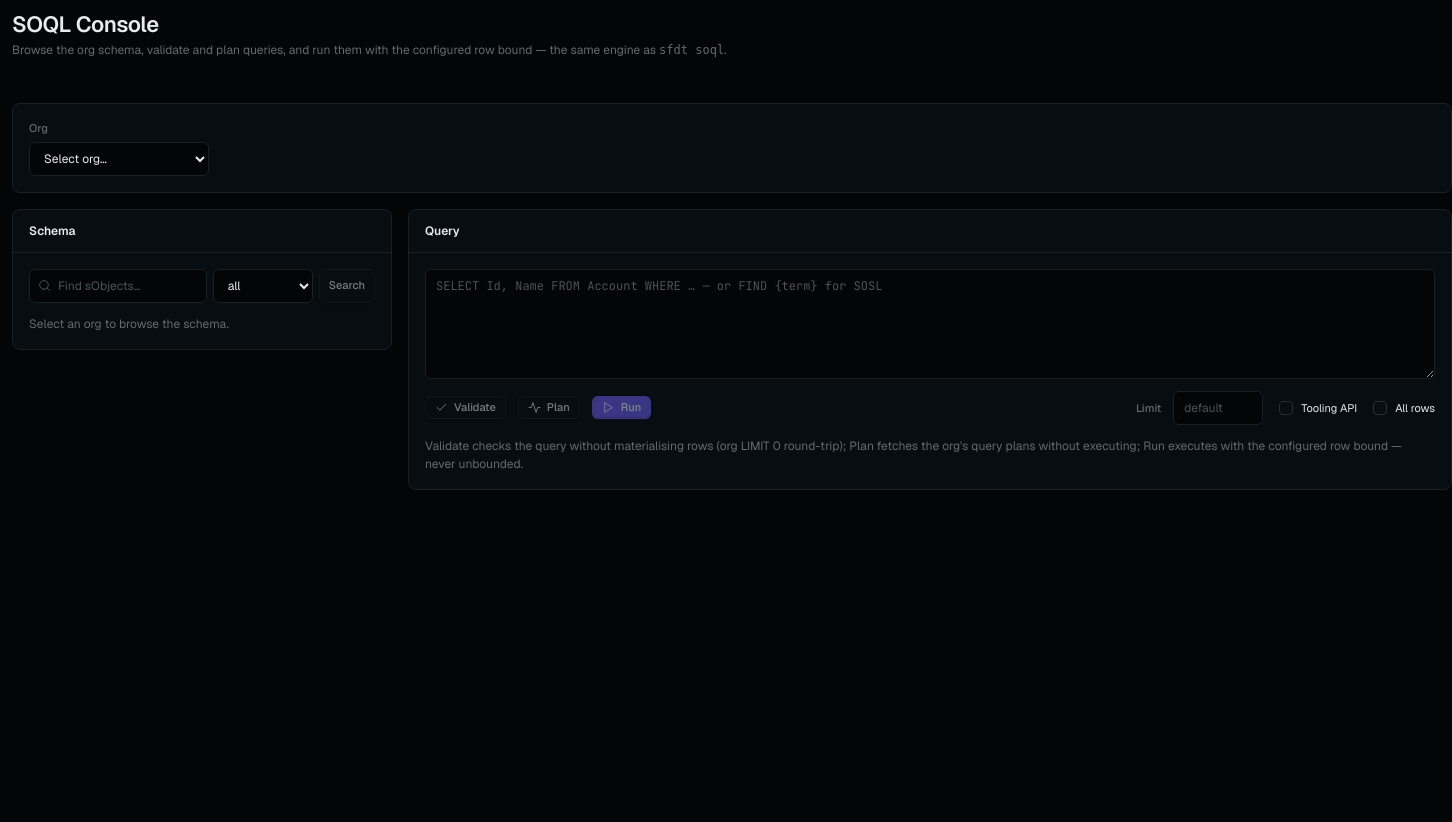
Test: SoqlConsolePage › passes an explicit limit through and surfaces truncation
Step 1. Replace the text in the text box named "Query editor" with "SELECT Id FROM Account" → [930, 324], box x1=425 y1=269 x2=1435 y2=379
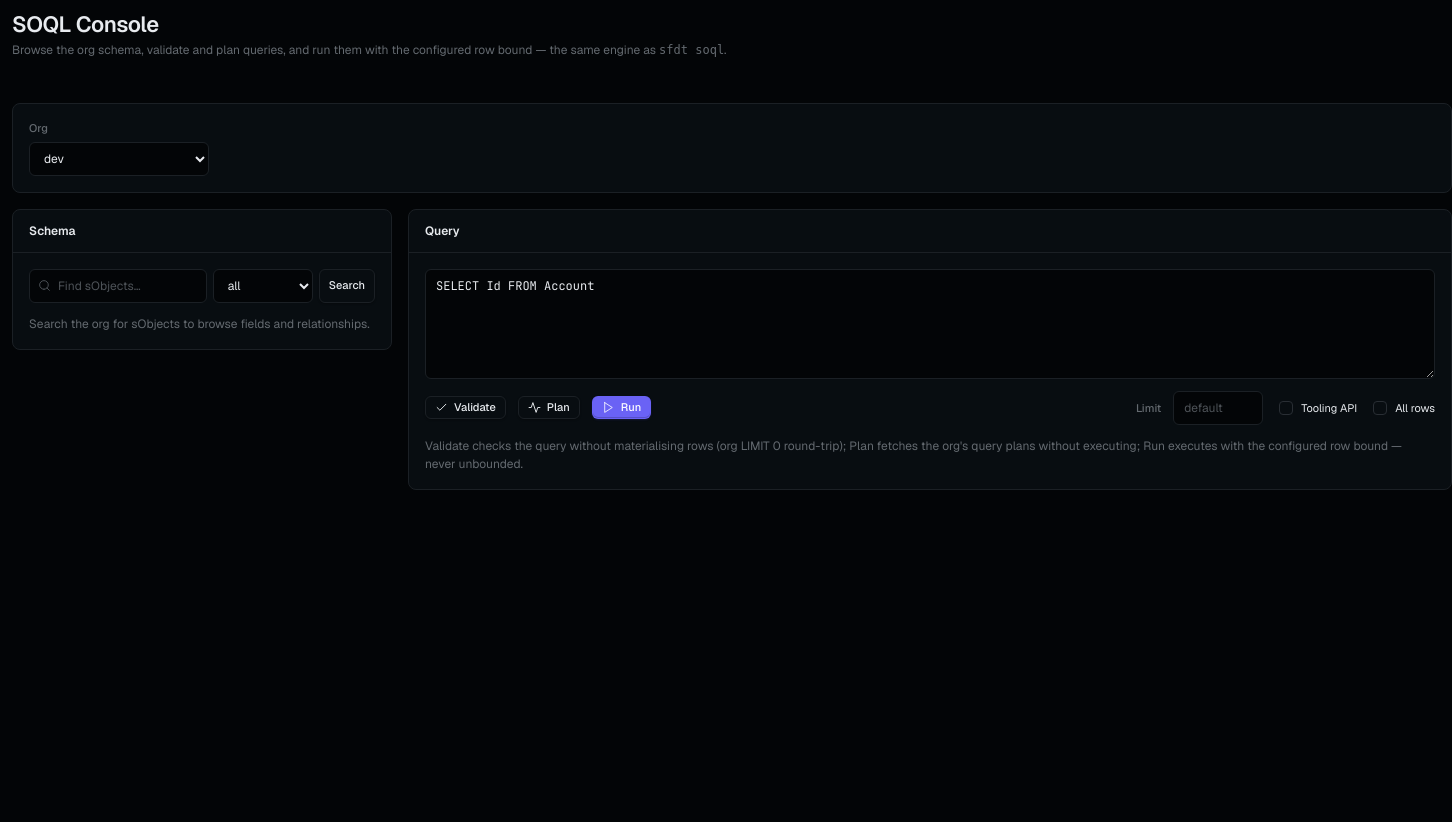
Step 2. Type "50" into the field labelled "Limit" → [1218, 408], box x1=1173 y1=391 x2=1263 y2=425
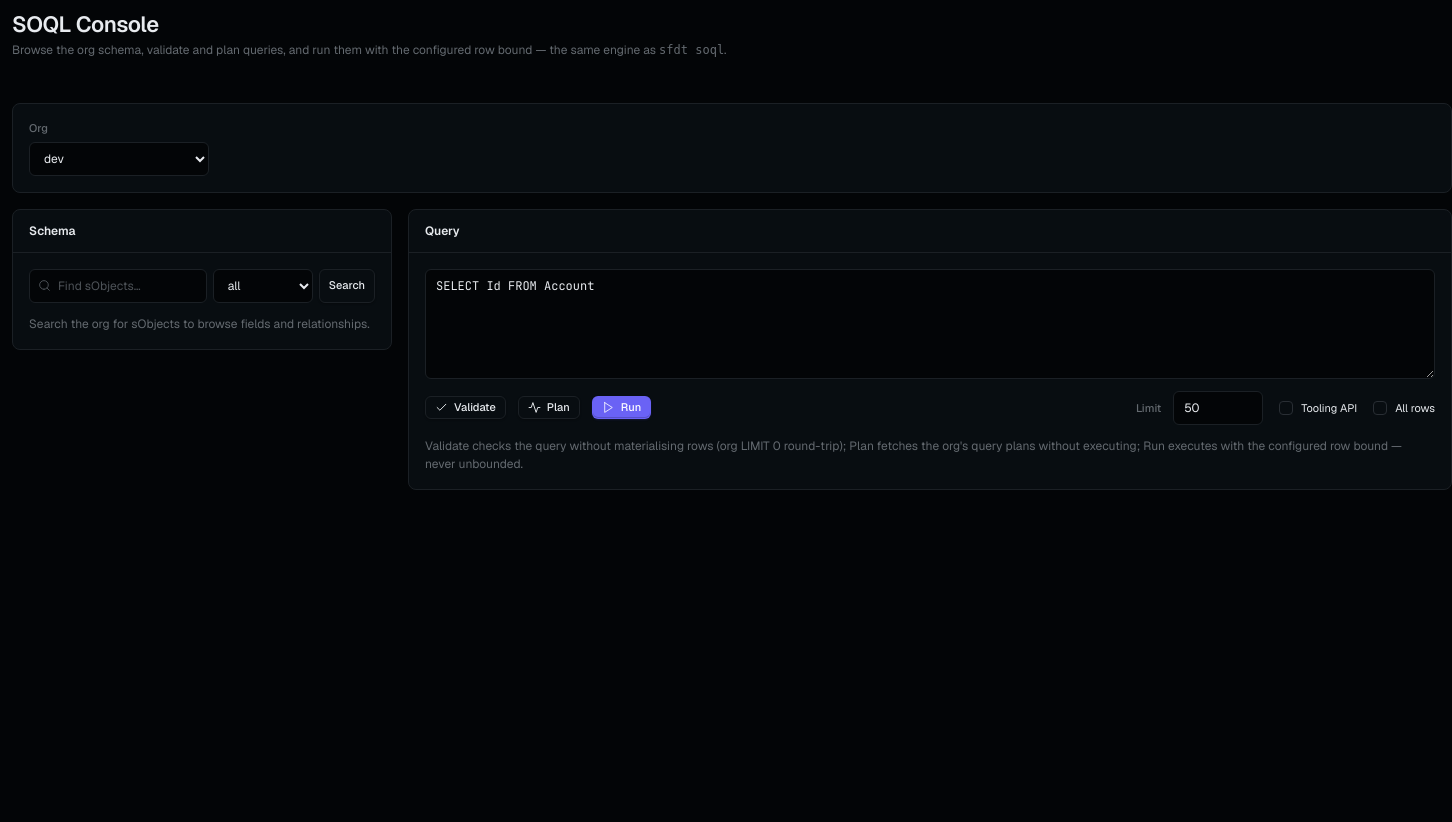
Step 3. Click the button "Run" → [621, 408], box x1=592 y1=396 x2=651 y2=419
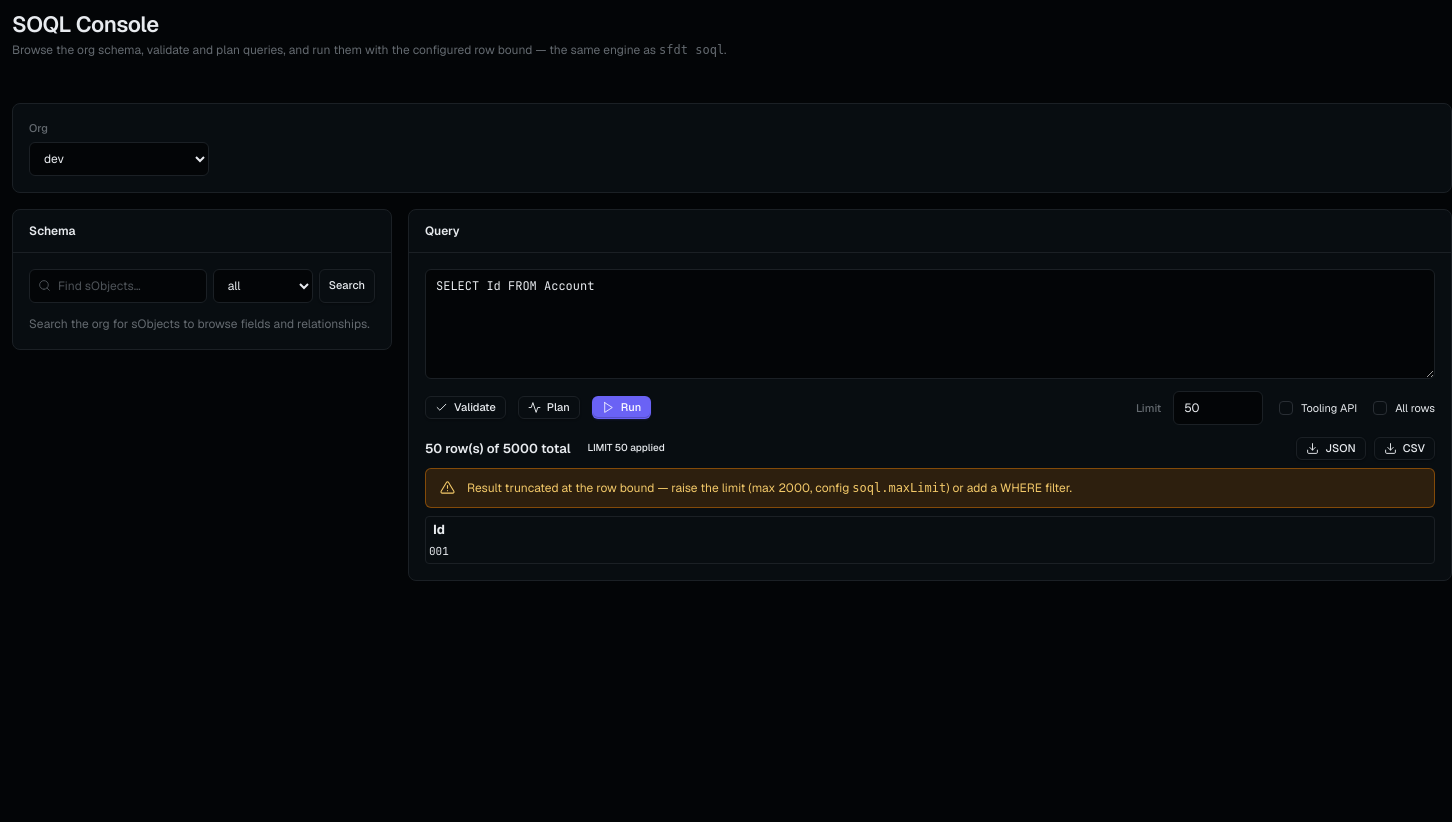
Now the text "Result truncated at the row bound" is shown, box x1=467 y1=480 x2=778 y2=496
